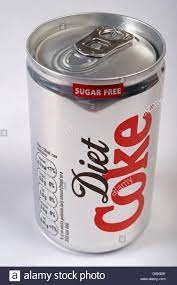can: (24, 9, 169, 257)
